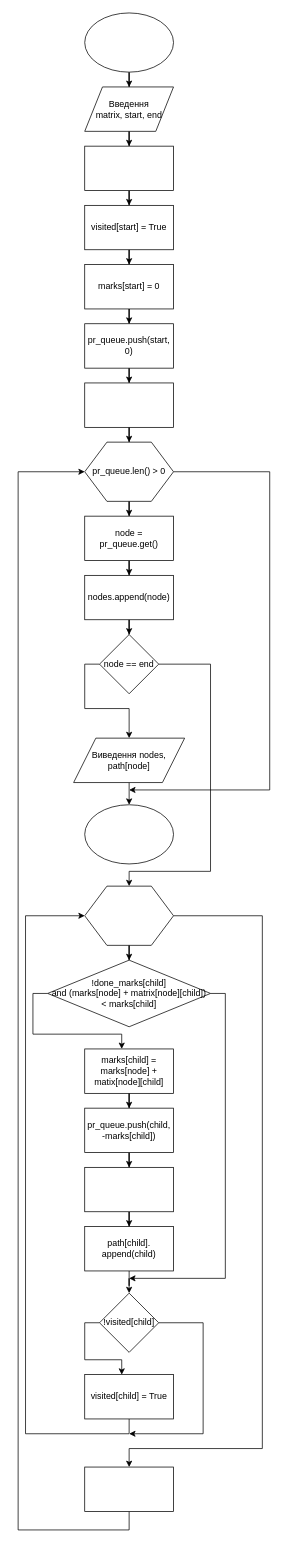
This 289x1549 diagram has some shape labels left out. The shapes that lost their labels are listed below. From the top down, each one's centre as x and y in pixels, then its label:
(129,42): Початок
(129,168): inittialize: visited, done_marks, pr_queue, marks, path
(129,404): path[start]. append(start)
(129,834): Кінець
(129,915): for child in get_children(matrix, node)
(129,1189): path[child]. extend(path[node])
(129,1488): done_marks[node] = True
